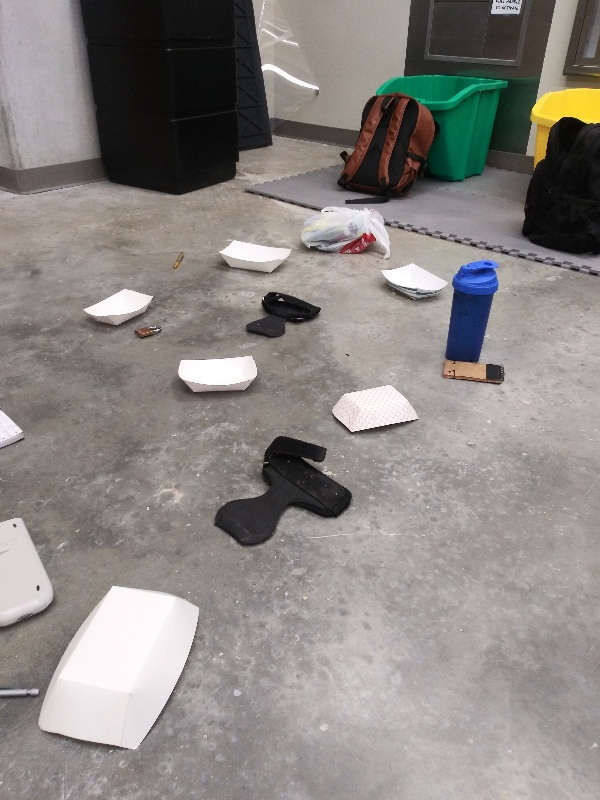plate: (32, 580, 205, 756), (327, 381, 422, 436), (175, 353, 262, 401), (81, 287, 158, 331), (376, 261, 453, 303), (217, 237, 296, 275)
